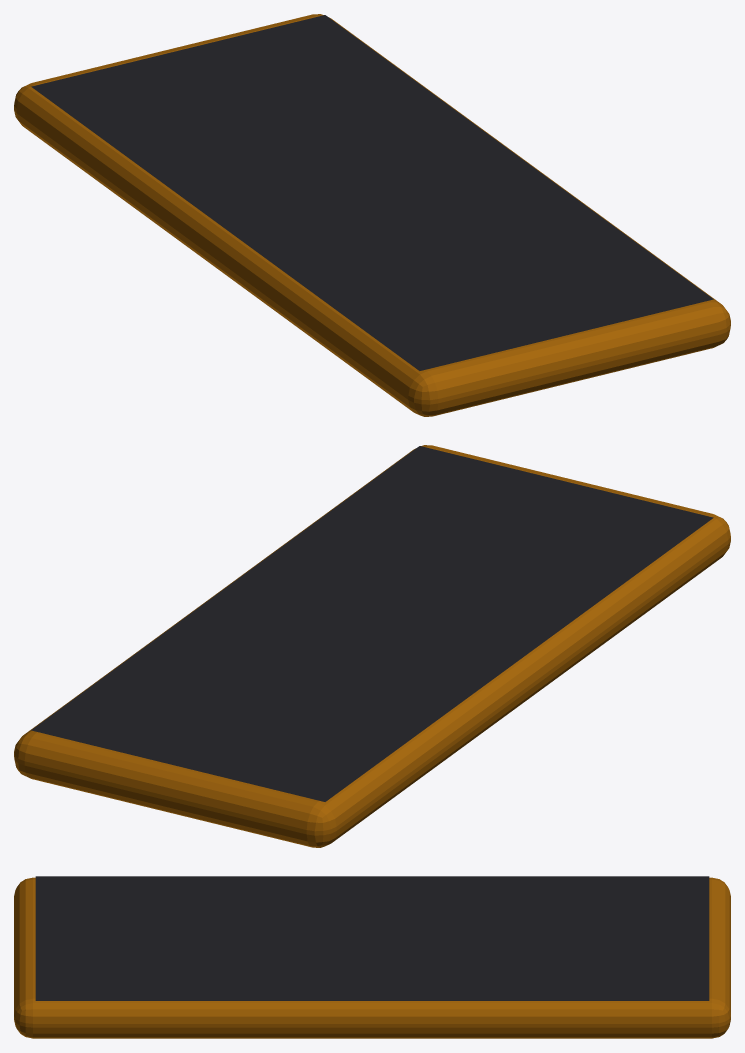
File: tecno-spark-model-434-mid-range-2021.glb
3 renders of one model, top to bottom at view 1: azimuth 30°, elevation 25°; view 2: azimuth 150°, elevation 25°; view 3: azimuth 270°, elevation 25°, orthographic. The views are drawn at different scales.
Parts seen in each view (by area): view 1: Phone_Screen, Phone_Body; view 2: Phone_Screen, Phone_Body; view 3: Phone_Screen, Phone_Body.
Part boxes in pixels (x1,y1,x2,y2): Phone_Screen: [31, 15, 713, 370]; Phone_Body: [14, 14, 730, 416]; Phone_Screen: [31, 446, 713, 801]; Phone_Body: [14, 445, 730, 847]; Phone_Screen: [35, 876, 709, 1000]; Phone_Body: [14, 877, 730, 1038].
Size of the model in its own units: 0.0723 by 0.0096 by 0.1619.
